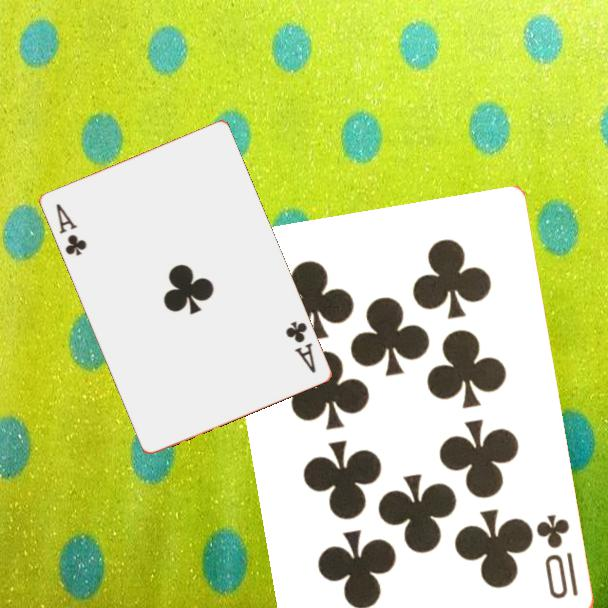c01: (52, 200, 89, 259), (282, 317, 318, 376)
c10: (534, 511, 582, 603)
